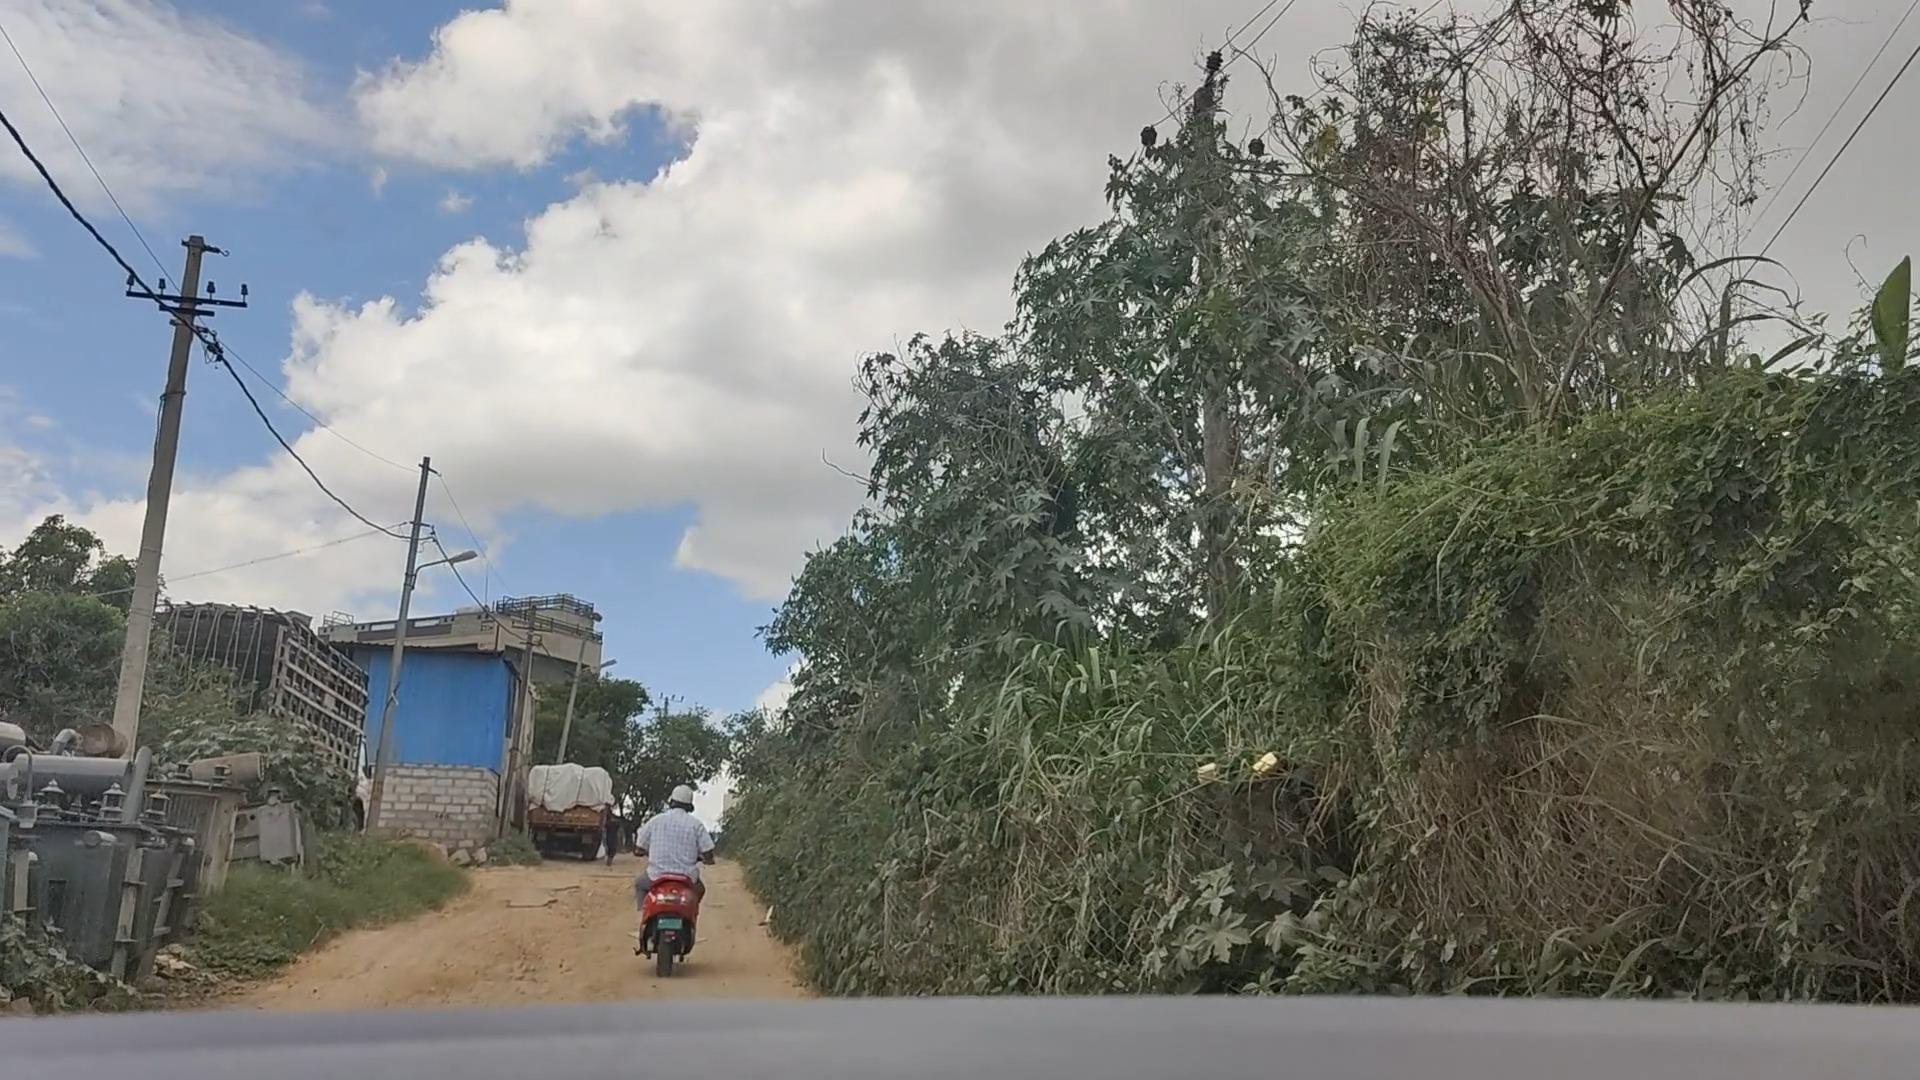HMV: (518, 756, 619, 875)
UnsurfacedRoad: (371, 886, 657, 1011)
